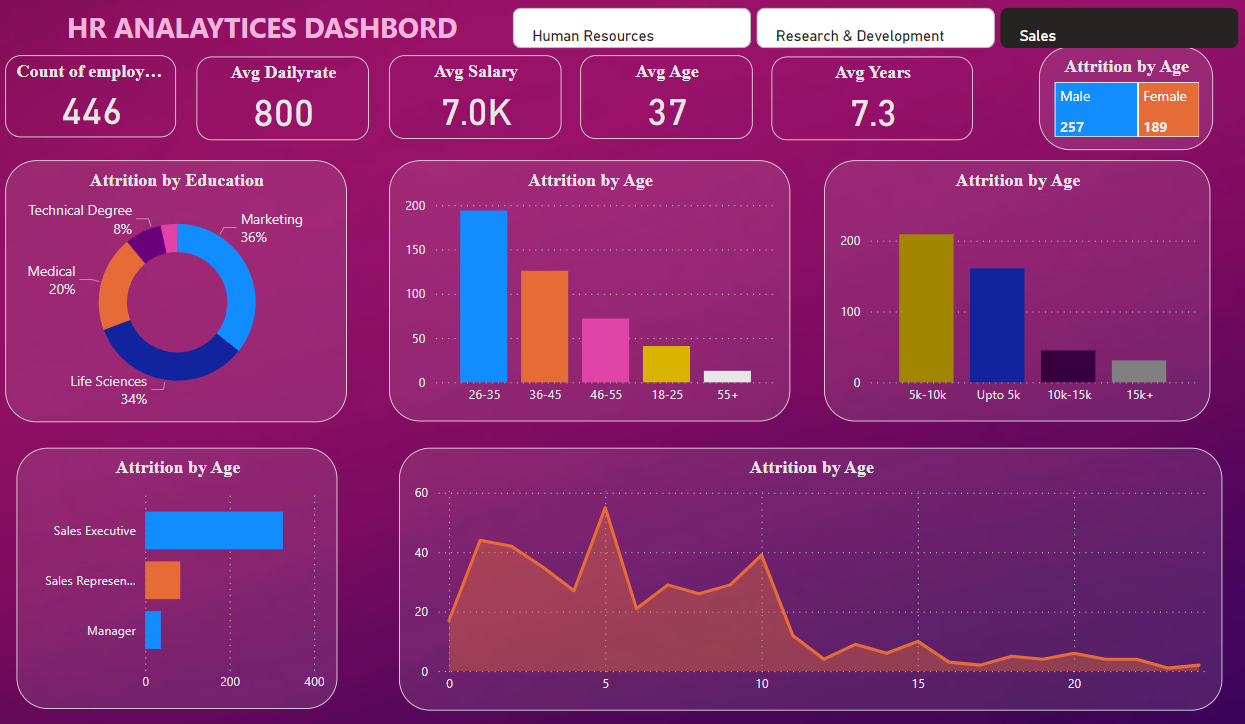

The page's visual inventory and layout, read from the dashboard file:
{"tool":"powerbi","page":{"name":"Page 1","canvas":[1280,720],"ordinal":0},"visuals":[{"type":"card","title":"Count of employees","fields":{"Values":["Sum(HR_Analytics.EmployeeCount)"]},"box":[11,59,164.7,79.6],"z":0},{"type":"card","title":"Avg Dailyrate ","fields":{"Values":["Avg(HR_Analytics.DailyRate)"]},"box":[194.9,60.4,166,81],"z":1000},{"type":"card","title":"Avg Salary","fields":{"Values":["Avg(HR_Analytics.MonthlyIncome)"]},"box":[381.5,59,166,81],"z":2000},{"type":"card","title":"Avg Age","fields":{"Values":["Avg(HR_Analytics.Age)"]},"box":[565.4,59,166,81],"z":3000},{"type":"card","title":"Avg Years","fields":{"Values":["Avg(HR_Analytics.YearsAtCompany)"]},"box":[750.2,60.3,194.2,80.8],"z":4000},{"type":"donutChart","title":" Attrition by Education","fields":{"Category":["HR_Analytics.EducationField"],"Y":["CountNonNull(HR_Analytics.Attrition)"]},"box":[11,160.5,329.3,252.5],"z":5000},{"type":"clusteredColumnChart","title":" Attrition by Age","fields":{"Category":["HR_Analytics.AgeGroup"],"Y":["CountNonNull(HR_Analytics.Attrition)"]},"box":[381.5,160.5,329.3,252.5],"z":6000},{"type":"columnChart","title":" Attrition by Age","fields":{"Category":["HR_Analytics.SalarySlab"],"Y":["CountNonNull(HR_Analytics.Attrition)"]},"box":[750.6,160.5,329.3,252.5],"z":7000},{"type":"barChart","title":" Attrition by Age","fields":{"Category":["HR_Analytics.JobRole"],"Y":["CountNonNull(HR_Analytics.Attrition)"]},"box":[21.7,437.8,309.9,252.1],"z":8000},{"type":"areaChart","title":" Attrition by Age","fields":{"Category":["HR_Analytics.YearsAtCompany"],"Y":["CountNonNull(HR_Analytics.Attrition)"]},"box":[390.8,437.8,862.3,253.3],"z":9000},{"type":"treemap","title":" Attrition by Age","fields":{"Group":["HR_Analytics.Gender"],"Values":["CountNonNull(HR_Analytics.Attrition)"]},"box":[1008.2,50.7,167.6,100.1],"z":10000},{"type":"advancedSlicerVisual","fields":{"Values":["HR_Analytics.Department"]},"box":[495.7,8.4,710.4,49.4],"z":11000},{"type":"textbox","box":[21.7,8.4,474,49.4],"z":12000}]}

Visuals, with their boxes in screenshot pixels (x1, y1, x2, y2):
"Count of employees" card: [79, 53, 237, 130]
"Avg Dailyrate " card: [255, 55, 414, 132]
"Avg Salary" card: [434, 53, 593, 131]
"Avg Age" card: [610, 53, 770, 131]
"Avg Years" card: [788, 55, 974, 132]
" Attrition by Education" donutChart: [79, 151, 395, 393]
" Attrition by Age" clusteredColumnChart: [434, 151, 750, 393]
" Attrition by Age" columnChart: [788, 151, 1104, 393]
" Attrition by Age" barChart: [89, 417, 386, 659]
" Attrition by Age" areaChart: [443, 417, 1244, 660]
" Attrition by Age" treemap: [1035, 45, 1196, 141]
advancedSlicerVisual - HR_Analytics.Department: [544, 5, 1225, 52]
textbox: [89, 5, 544, 52]
